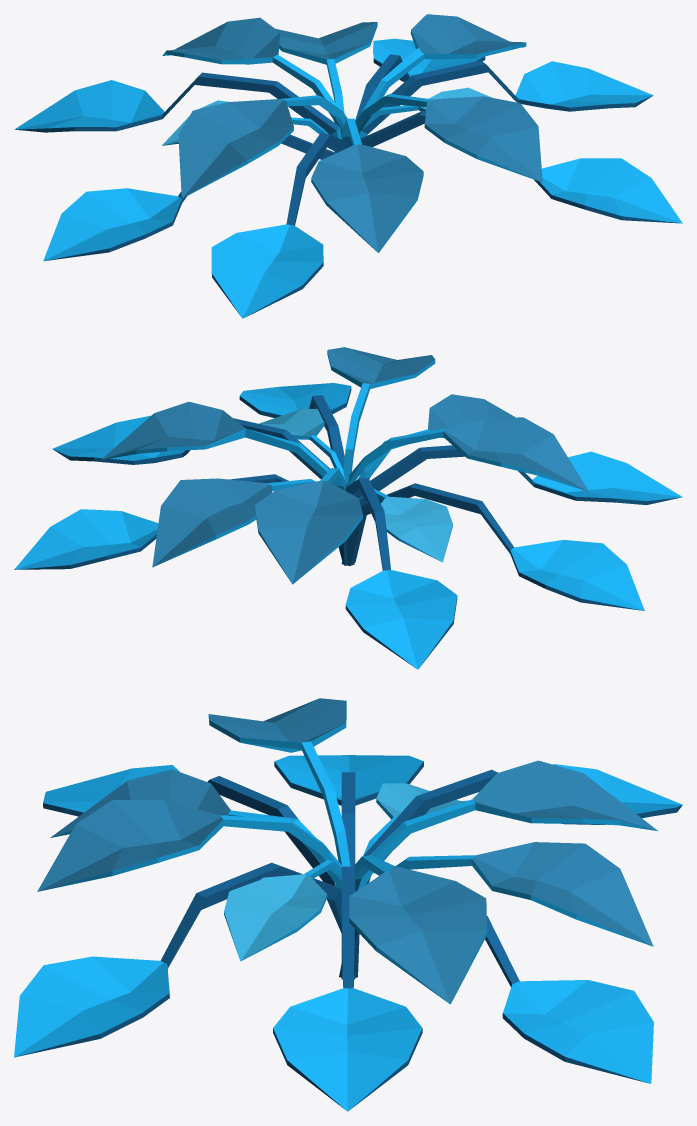
Rendered from Plant006.fbx.
3 views of the same model, one above another, from view 1: azimuth 30°, elevation 25°; view 2: azimuth 150°, elevation 25°; view 3: azimuth 270°, elevation 25° (orthographic). The views are drawn at different scales.
Visible parts, largest first — view 1: Plant006; view 2: Plant006; view 3: Plant006.
Boxes of the visible parts, x1=… form: Plant006: x1=14, y1=14, x2=682, y2=318; Plant006: x1=14, y1=347, x2=682, y2=669; Plant006: x1=14, y1=698, x2=682, y2=1111.
Bounding box in the file's own units: 3.41 × 0.7727 × 2.54.
